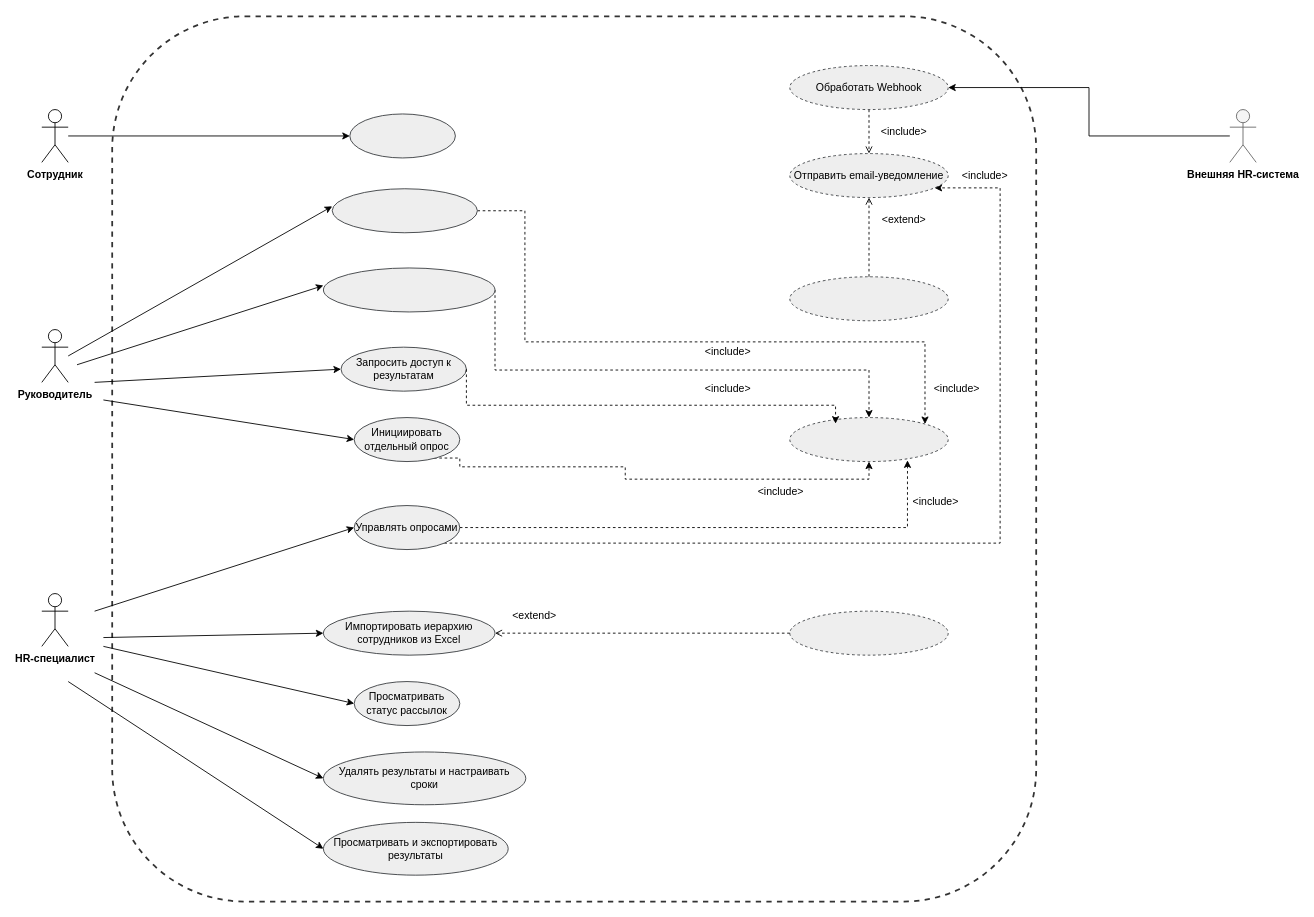
Image size: 1314x917. Some labels were removed from this diagram. The shapes that lost their labels are listed below. From the top down, each one's centre as x and y in pixels, then its label:
At point 402,135: "Пройти опрос".
At point 404,210: "Просмотреть сводку по подразделению".
At point 409,289: "Просмотреть результаты по подчиненным".
At point 868,298: "Обработать ошибку SMTP".
At point 868,439: "Проверить права доступа (RBAC)".
At point 868,632: "Вывести ошибки валидации".
